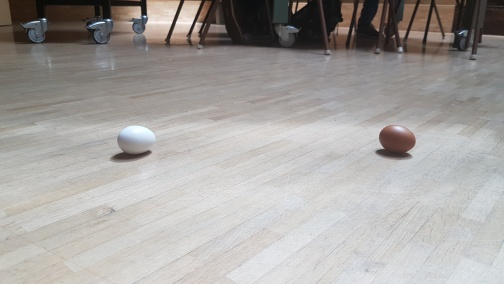egg: (378, 123, 418, 156), (116, 124, 158, 155)
